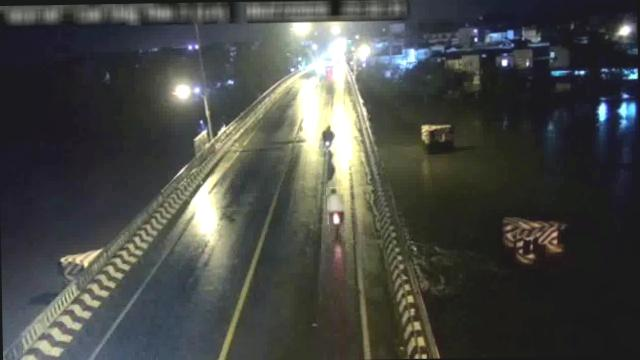Bike: (328, 188, 348, 232), (320, 122, 334, 150)
